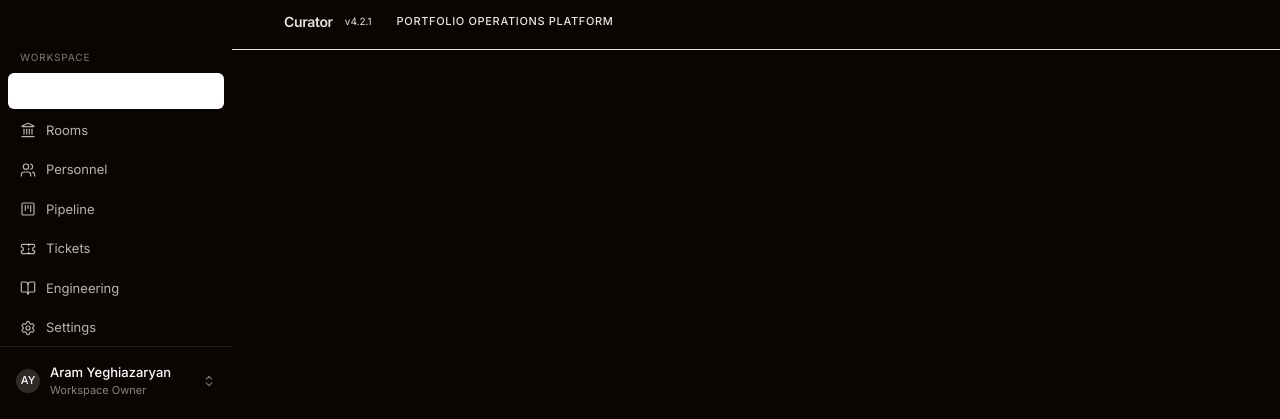
AppShell user menu › closes on Escape and marks the event defaultPrevented
This screenshot has width=1280, height=419.
Click the button "AY Aram Yeghiazaryan Workspace Owner".
click(116, 380)  # box [16,358,216,402]
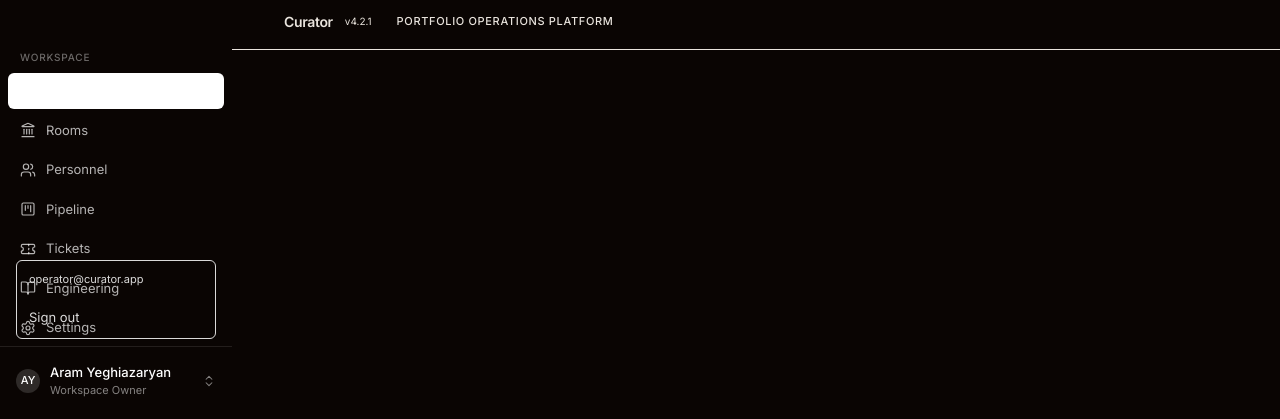
Expected: the text "operator@curator.app" is shown, [29,272,143,286]
Press Escape
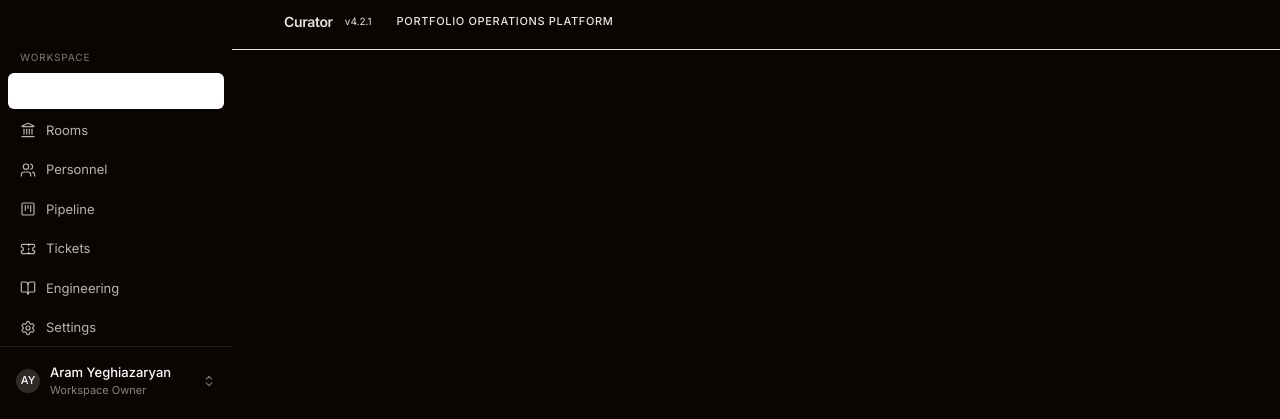
Expected: the text "operator@curator.app" is gone
